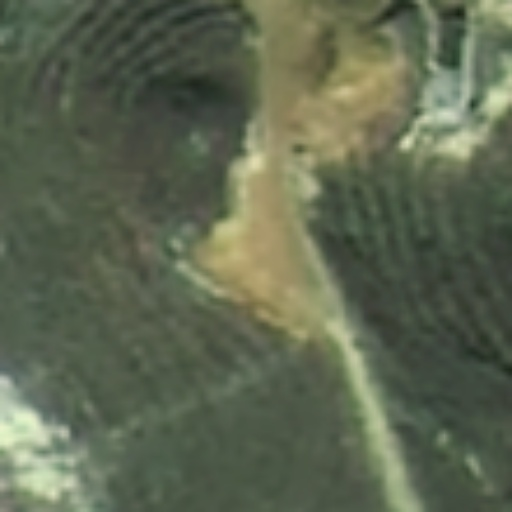landslide: (196, 160, 324, 331), (317, 52, 409, 164)
